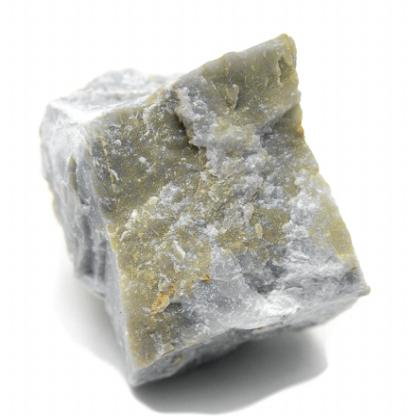Sedimentary_Limestone: (40, 18, 373, 386)
